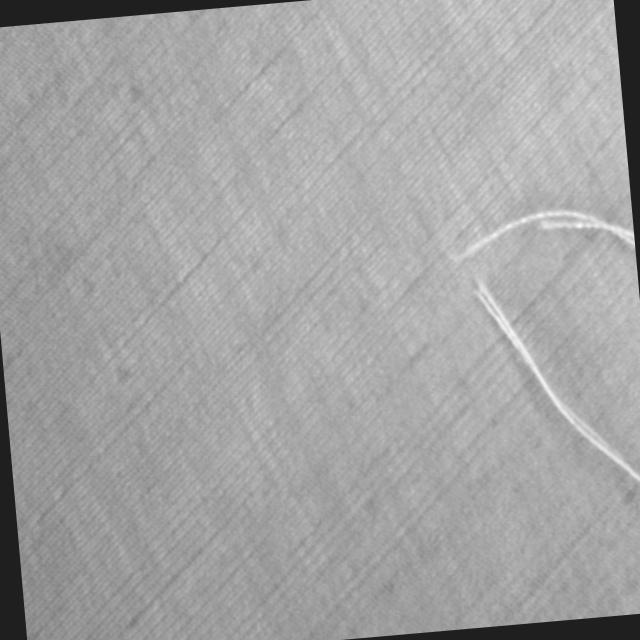objects: (449, 201, 640, 516)
